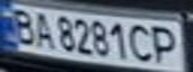1: (106, 19, 130, 61)
2: (69, 16, 93, 56)
8: (51, 12, 75, 53), (90, 18, 109, 58)
A: (27, 10, 57, 48)
B: (3, 6, 39, 46)
C: (127, 21, 157, 64)
P: (148, 22, 187, 65)
